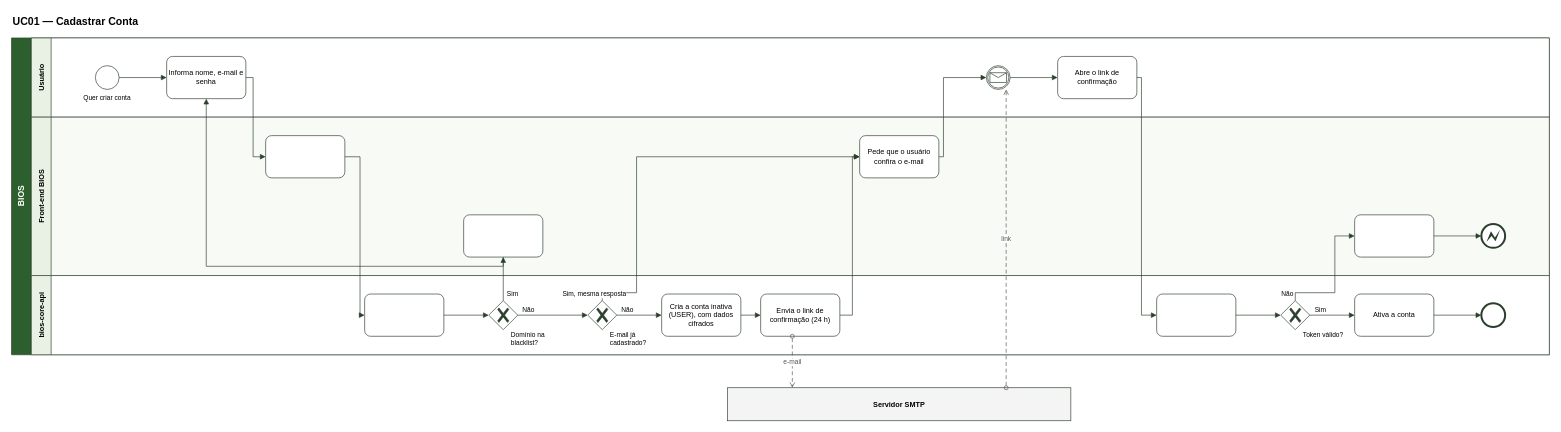
Some shapes in this 1561 by 432 pixel diagram are drawn without their labels. Here are the shapes that lost their labels. From the top down, the centre of each, then its label:
point (998, 77): Recebe o e-mail
point (305, 156): Envia POST /accounts
point (503, 235): Recusa com mensagem genérica
point (1394, 235): Exibe erro e oferece o reenvio do link
point (1493, 235): Link vencido ou usado
point (404, 314): Valida os dados e normaliza o e-mail
point (1196, 314): POST /accounts/confirm-email: valida o token
point (1493, 315): Conta ativa
